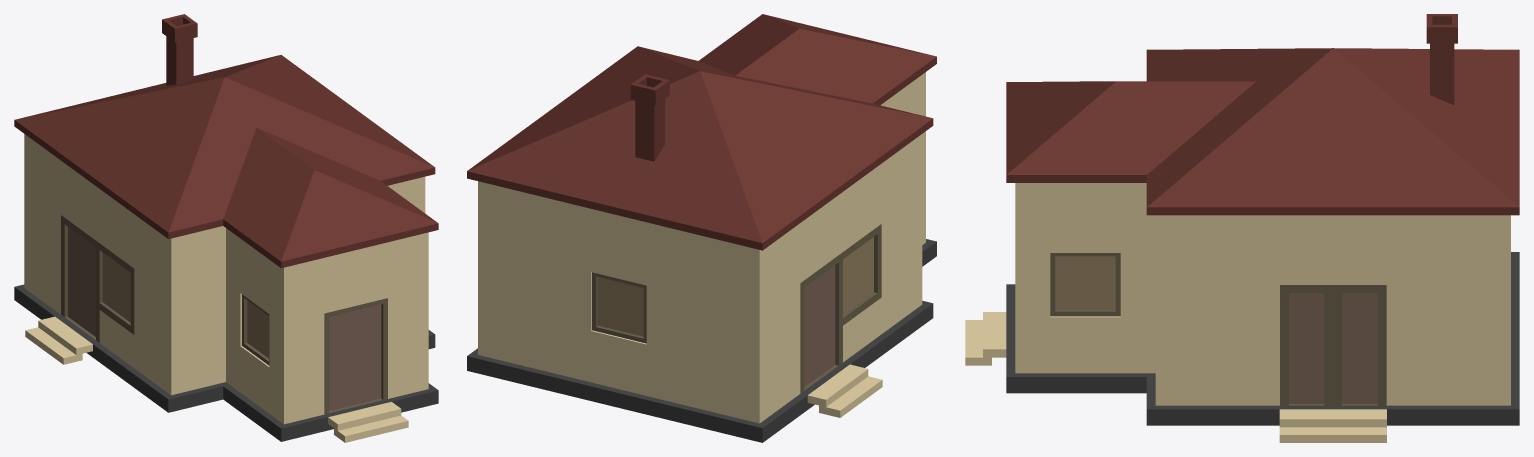
The model's file is low_poly_simple_house.glb.
The picture shows the model from 3 angles, left to right: view 1: azimuth 30°, elevation 25°; view 2: azimuth 150°, elevation 25°; view 3: azimuth 270°, elevation 25°; orthographic projection. The views are drawn at different scales.
Parts seen in each view (by area): view 1: HouseType02; view 2: HouseType02; view 3: HouseType02.
Boxes of the visible parts, x1=… form: HouseType02: x1=14, y1=14, x2=438, y2=442; HouseType02: x1=467, y1=14, x2=936, y2=442; HouseType02: x1=965, y1=14, x2=1519, y2=442.
Size of the model in its own units: 5.13 by 4.05 by 6.24.
